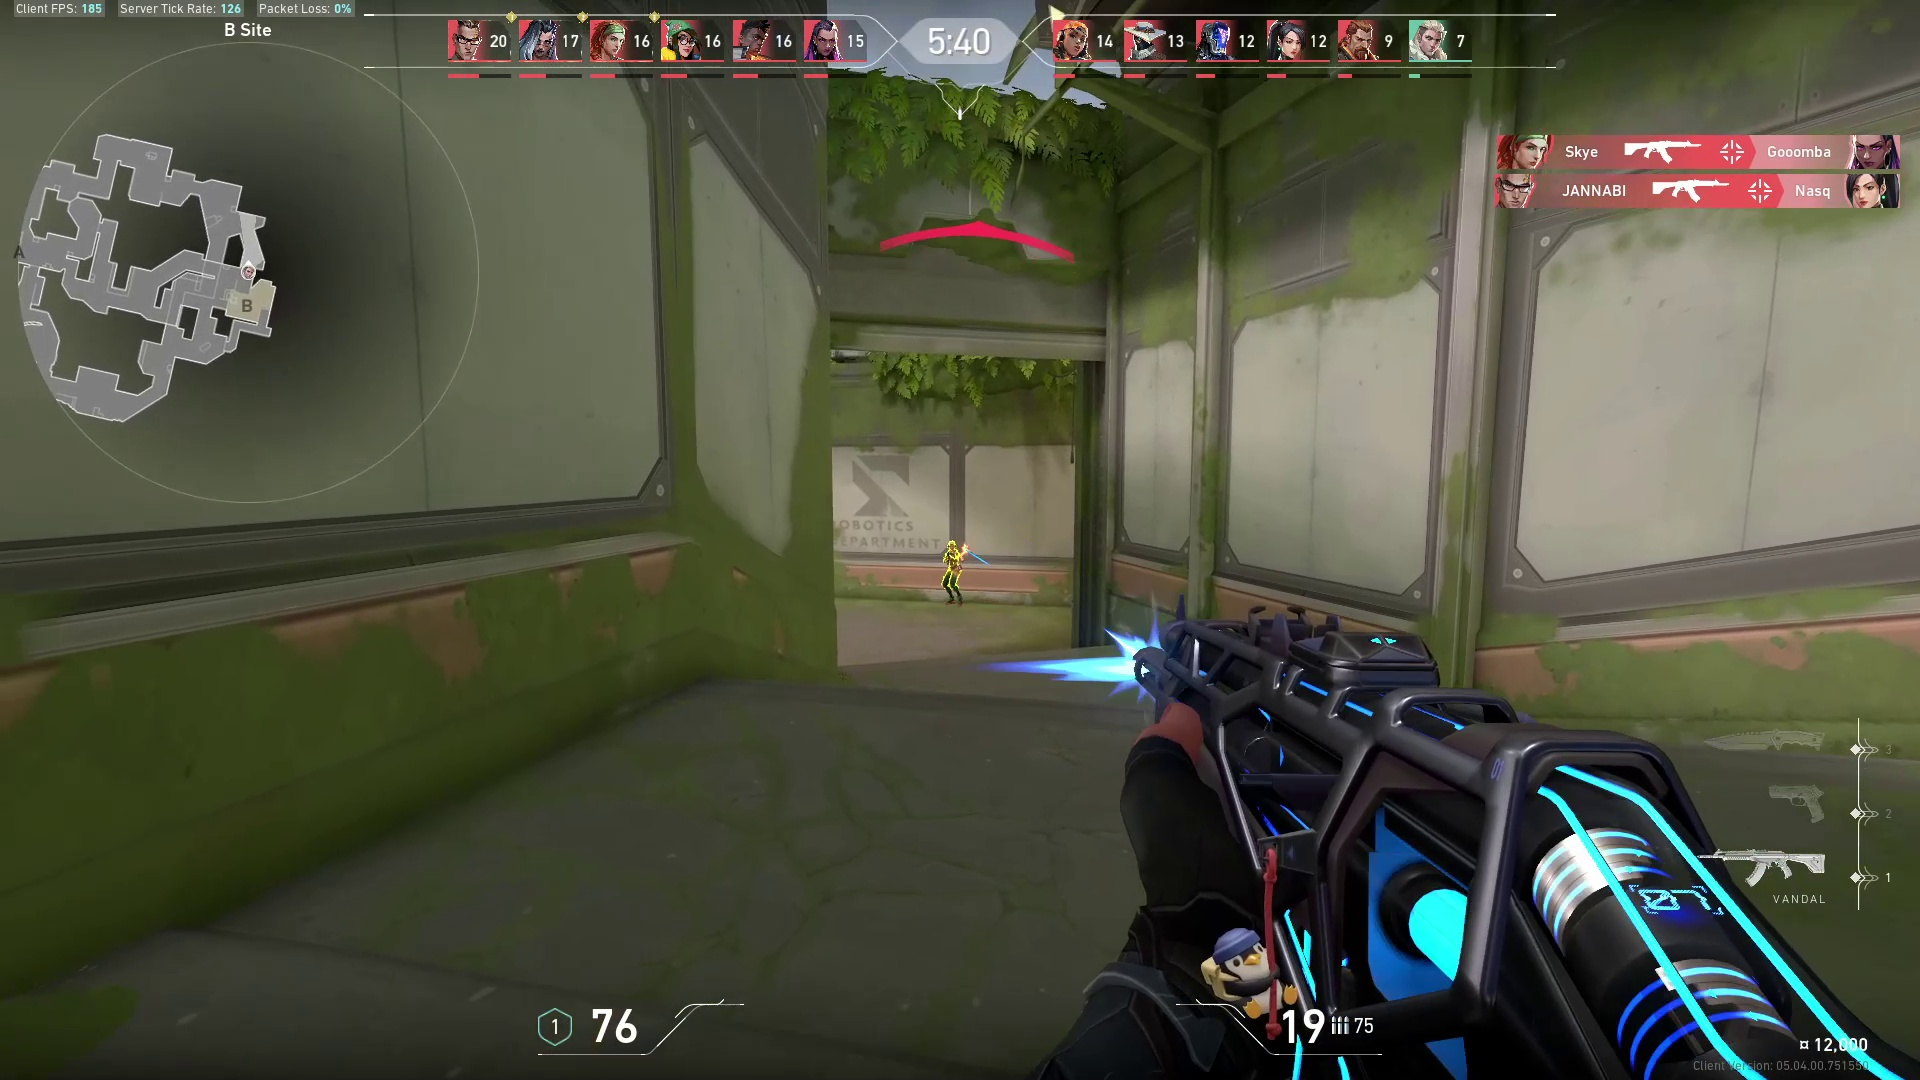enemy_body: (939, 551, 967, 607)
enemy_head: (945, 538, 957, 551)
